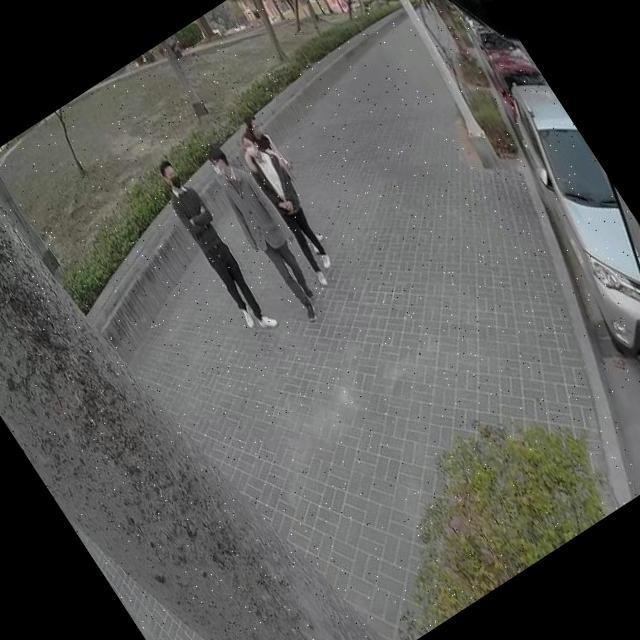person: (194, 137, 334, 323), (146, 154, 278, 338), (222, 119, 354, 292), (224, 113, 344, 274)
